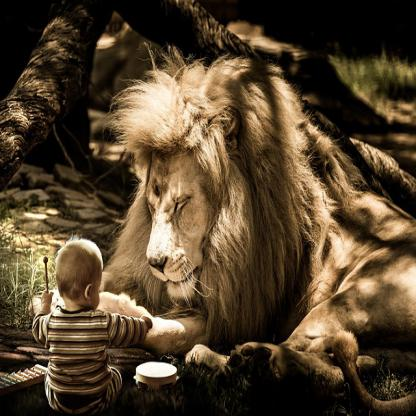cat: (106, 51, 416, 382)
